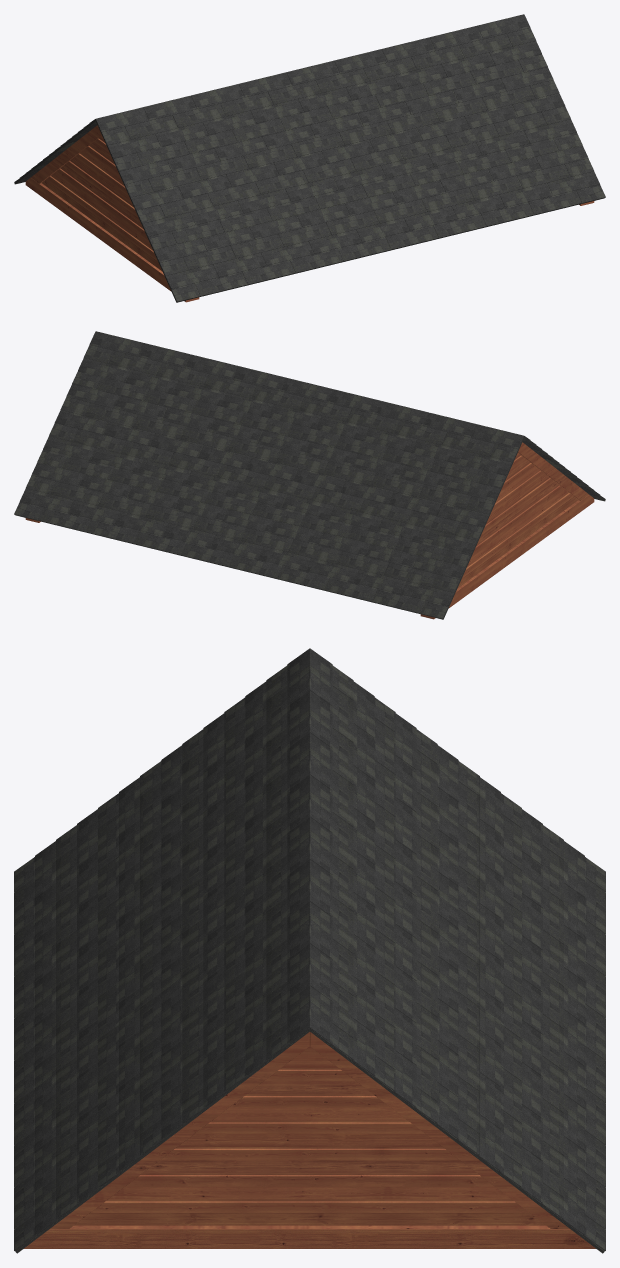
Rendered from Telluride.obj.
3 views of the same model, one above another, from view 1: azimuth 30°, elevation 25°; view 2: azimuth 150°, elevation 25°; view 3: azimuth 270°, elevation 25° (orthographic). The views are drawn at different scales.
Parts seen in each view (by area): view 1: shingles_front, roof_side_left, tar_front, w_left, wood_left, tar_front001; view 2: shingles_front001, roof_side_left, tar_front001, w_left, wood_left, tar_front; view 3: shingles_front, shingles_front001, roof_side_right, w_right, wood_right, tar_front, tar_front001.
Part boxes in pixels (x1,y1,x2,y2): shingles_front: (95,14,605,301); roof_side_left: (42,136,162,271); tar_front: (95,26,604,302); w_left: (25,177,199,302); wood_left: (31,125,101,183); tar_front001: (14,26,477,184); shingles_front001: (14,331,524,618); roof_side_left: (457,453,577,588); tar_front001: (15,343,524,619); w_left: (420,494,594,619); wood_left: (518,442,588,500); tar_front: (142,343,605,501); shingles_front: (14,648,310,1250); shingles_front001: (310,648,605,1250); roof_side_right: (74,1046,545,1225); w_right: (24,1225,595,1248); wood_right: (50,1032,569,1228); tar_front: (15,1028,310,1253); tar_front001: (309,1028,604,1253).
Size of the model in its own units: 144 by 40.99 by 95.19.
